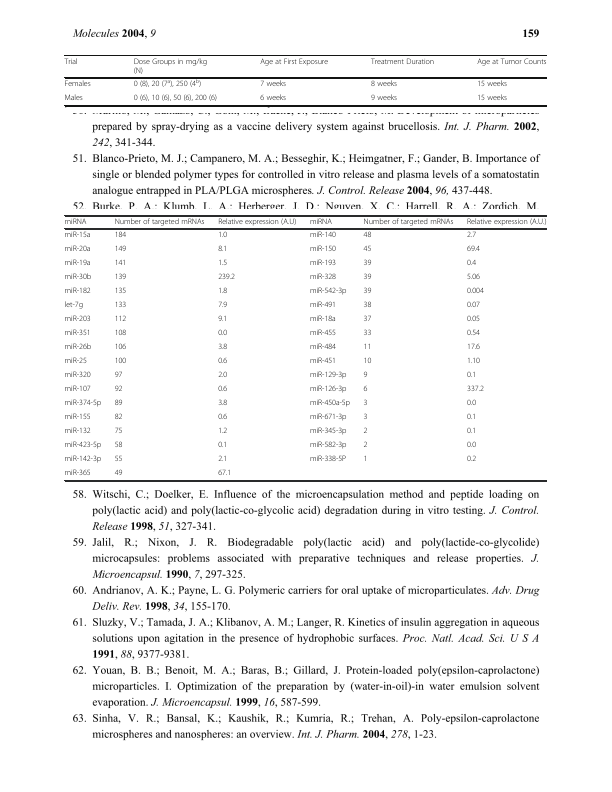borderless: (63, 214, 546, 480), (63, 54, 546, 105)
cell: (133, 58, 208, 76), (133, 94, 218, 104), (133, 78, 202, 90), (362, 218, 454, 227), (114, 218, 205, 227), (466, 218, 547, 227), (217, 218, 297, 227), (476, 58, 547, 67), (259, 58, 329, 67), (370, 58, 435, 67), (309, 399, 351, 409), (309, 287, 347, 297), (309, 371, 347, 381), (309, 385, 347, 395), (64, 399, 102, 409), (309, 413, 347, 423), (309, 427, 347, 437), (64, 441, 102, 451), (309, 441, 347, 451), (64, 455, 102, 465), (309, 455, 347, 465), (476, 80, 508, 90), (476, 94, 508, 104), (259, 80, 287, 90), (370, 80, 398, 90), (259, 94, 287, 104), (370, 94, 398, 104), (309, 231, 337, 241), (309, 245, 337, 255), (309, 259, 337, 269), (64, 273, 92, 283), (309, 273, 337, 283), (309, 301, 337, 311), (309, 315, 337, 325), (309, 329, 337, 339), (64, 343, 92, 353), (309, 343, 337, 353), (309, 357, 337, 367), (64, 80, 91, 90), (64, 231, 91, 241), (64, 245, 91, 255), (64, 259, 91, 269), (64, 287, 91, 297), (64, 315, 91, 325), (64, 329, 91, 339), (64, 371, 91, 381), (64, 385, 91, 395), (64, 413, 91, 423), (64, 427, 91, 437), (64, 469, 91, 479), (64, 357, 88, 367), (309, 218, 333, 227), (63, 94, 84, 104), (64, 218, 87, 227), (64, 301, 84, 311), (217, 273, 236, 283), (466, 287, 485, 297), (466, 385, 485, 395), (466, 245, 481, 255), (466, 273, 481, 283), (466, 301, 481, 311), (466, 315, 481, 325), (466, 329, 481, 339), (466, 343, 481, 353), (466, 357, 481, 367), (217, 469, 232, 479), (114, 231, 127, 241), (114, 245, 127, 255), (114, 259, 127, 269), (114, 273, 127, 283), (114, 287, 127, 297), (114, 301, 127, 311), (114, 315, 127, 325), (114, 329, 127, 339), (114, 343, 127, 353), (114, 357, 127, 367), (64, 58, 78, 67), (217, 231, 228, 241), (466, 231, 477, 241), (217, 245, 228, 255), (217, 259, 228, 269), (466, 259, 477, 269), (217, 287, 228, 297), (217, 301, 228, 311), (217, 315, 228, 325), (217, 329, 228, 339), (217, 343, 228, 353), (217, 357, 228, 367), (217, 371, 228, 381), (466, 371, 477, 381), (217, 385, 228, 395), (217, 399, 228, 409), (466, 399, 477, 409), (217, 413, 228, 423), (466, 413, 477, 423), (217, 427, 228, 437), (466, 427, 477, 437), (217, 441, 228, 451), (466, 441, 477, 451), (217, 455, 228, 465), (466, 455, 477, 465), (362, 231, 372, 241), (362, 245, 372, 255), (362, 259, 372, 269), (362, 273, 372, 283), (362, 287, 372, 297), (362, 301, 372, 311), (362, 315, 372, 325), (362, 329, 372, 339), (362, 343, 372, 353), (362, 357, 372, 367), (114, 371, 123, 381), (114, 385, 123, 395), (114, 399, 123, 409), (114, 413, 123, 423), (114, 427, 123, 437), (114, 441, 123, 451), (114, 455, 123, 465), (114, 469, 123, 479), (362, 371, 368, 381), (362, 385, 368, 395), (362, 399, 368, 409), (362, 413, 368, 423), (362, 427, 368, 437), (362, 441, 368, 451), (362, 455, 368, 465)
